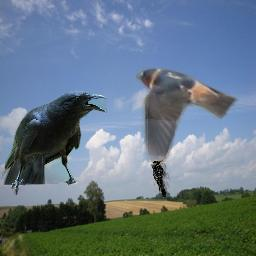Crow: (1, 90, 107, 195)
Swallow: (136, 64, 239, 162)
Woodpecker: (151, 160, 170, 200)
